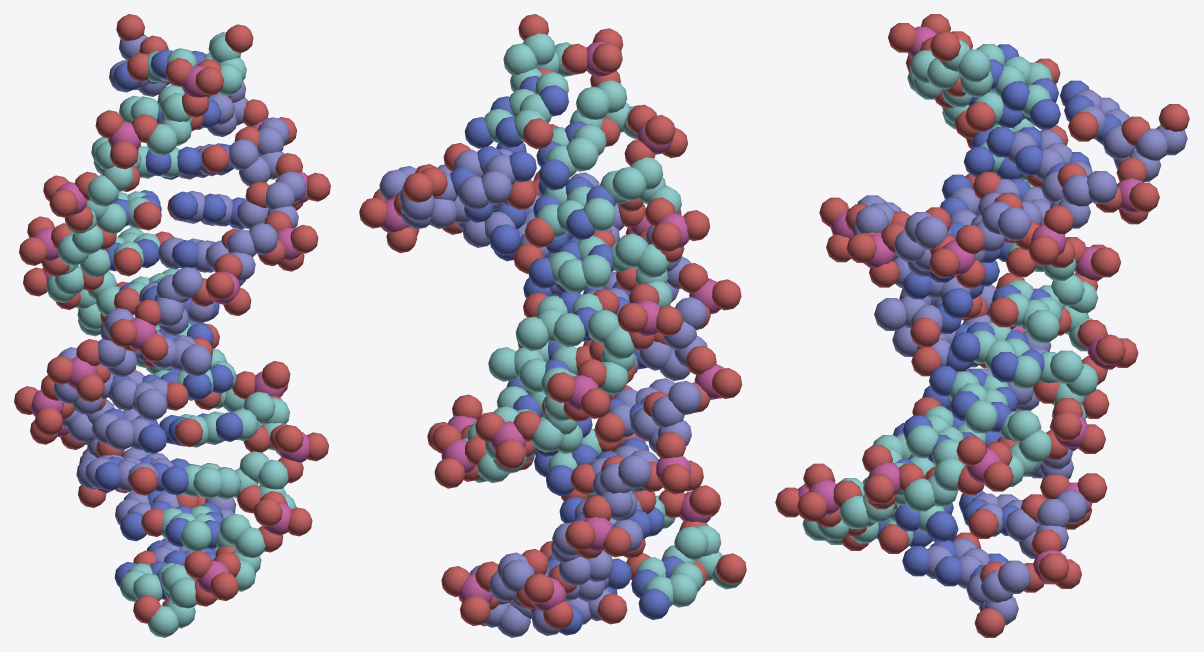
File: 1BNA.fbx
The picture shows the model from 3 angles, left to right: view 1: azimuth 30°, elevation 25°; view 2: azimuth 150°, elevation 25°; view 3: azimuth 270°, elevation 25°; orthographic projection. The views are drawn at different scales.
Parts seen in each view (by area): view 1: 1BNA; view 2: 1BNA; view 3: 1BNA.
Part boxes in pixels (x1=…): 1BNA: x1=14, y1=14, x2=330, y2=637; 1BNA: x1=359, y1=14, x2=746, y2=637; 1BNA: x1=775, y1=14, x2=1189, y2=637.
Size of the model in its own units: 24.5 by 44.72 by 28.29.
